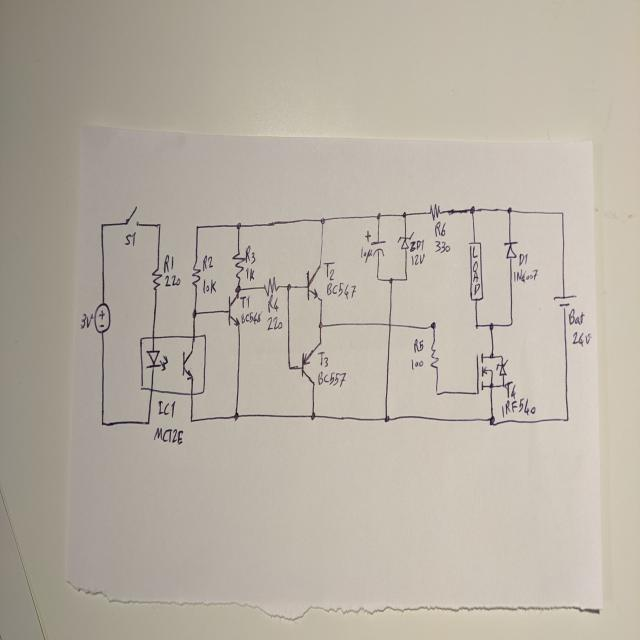capacitor: (364, 230, 386, 257)
crossover: (387, 320, 392, 328)
diode: (503, 238, 520, 260), (398, 231, 414, 252), (495, 358, 508, 376)
junction: (488, 414, 496, 427), (468, 203, 475, 216), (309, 409, 316, 421), (234, 284, 242, 294), (235, 220, 241, 232), (430, 319, 436, 331), (156, 220, 162, 232), (317, 320, 324, 330), (98, 220, 105, 230), (383, 413, 390, 423), (194, 221, 200, 232), (188, 414, 194, 425), (191, 308, 197, 318), (233, 410, 239, 420), (488, 320, 494, 330), (286, 281, 292, 291), (508, 318, 514, 328), (564, 414, 570, 423), (320, 216, 325, 226), (376, 211, 381, 221), (507, 205, 512, 215), (100, 418, 105, 428), (287, 362, 292, 372), (488, 381, 494, 389), (474, 321, 479, 330), (434, 388, 439, 397), (388, 276, 393, 284), (559, 209, 564, 217), (146, 417, 150, 426), (489, 352, 494, 359), (402, 210, 406, 218), (404, 274, 408, 282), (375, 275, 379, 281), (501, 382, 505, 388), (500, 354, 503, 359)
resistor: (468, 239, 483, 303), (232, 250, 245, 279), (263, 275, 279, 297), (190, 257, 201, 288), (429, 338, 439, 372), (151, 264, 162, 291), (428, 202, 442, 222)
source: (94, 300, 111, 334), (553, 292, 576, 310)
switch: (123, 204, 140, 232)
text: (153, 424, 184, 446), (501, 398, 536, 417), (318, 368, 347, 389), (326, 281, 356, 300), (513, 268, 538, 284), (570, 329, 592, 347), (240, 309, 263, 325), (157, 398, 175, 417), (472, 245, 478, 297), (266, 315, 284, 332), (568, 308, 584, 325), (80, 310, 93, 330), (408, 237, 424, 253), (244, 245, 256, 266), (202, 276, 216, 294), (267, 293, 279, 314), (323, 260, 335, 281), (360, 245, 372, 264), (165, 274, 181, 288), (434, 239, 450, 253), (163, 252, 174, 272), (124, 230, 136, 248), (202, 252, 212, 272), (434, 222, 446, 238), (410, 356, 424, 369), (411, 252, 424, 266), (504, 382, 517, 396), (318, 350, 328, 368), (239, 294, 250, 310), (413, 338, 424, 354), (246, 266, 256, 283), (518, 250, 528, 266)
transistor: (299, 343, 319, 386), (476, 352, 494, 396), (305, 263, 323, 303), (227, 290, 240, 328)
